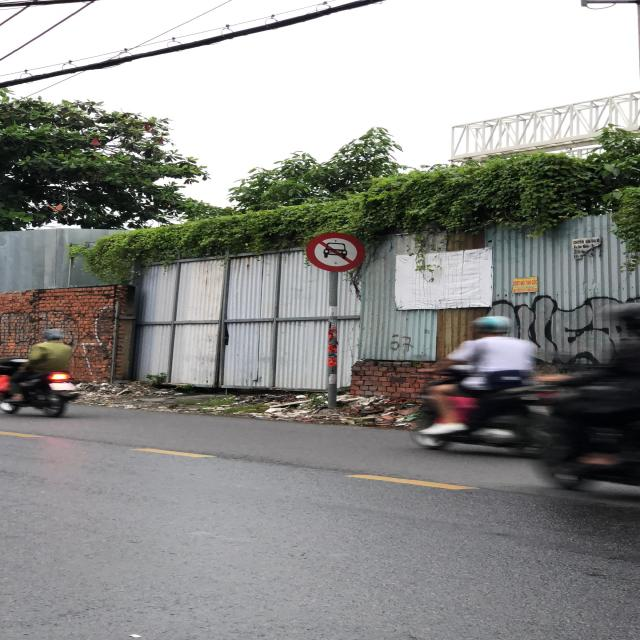Bien bao cam xe oto: (303, 230, 369, 274)
